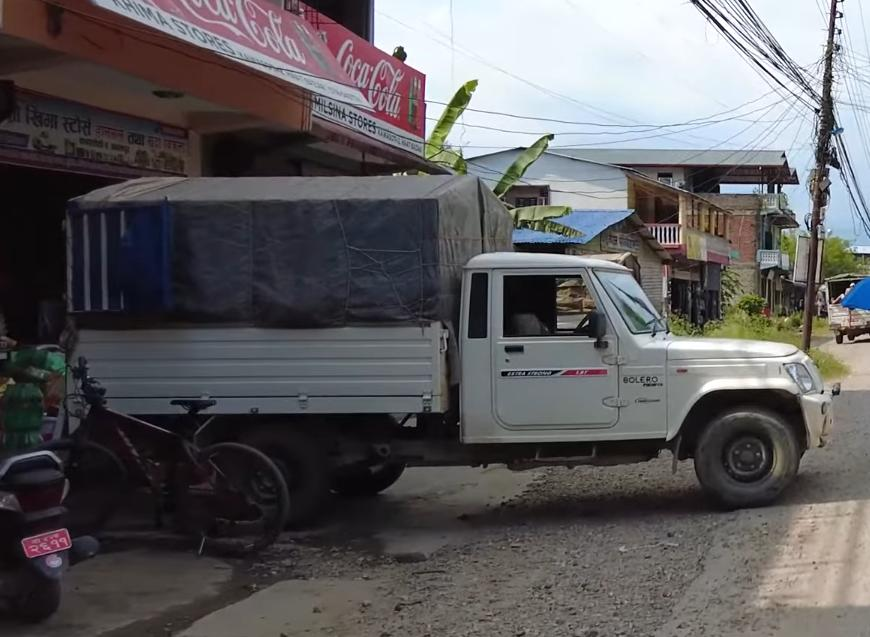mini_truck: (815, 266, 870, 347)
scooter: (0, 425, 100, 637)
transport_vehicle: (50, 160, 835, 498)
